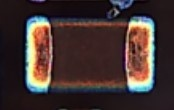COMP: (18, 14, 162, 100)
STAN: (101, 1, 134, 19), (105, 7, 120, 19), (109, 1, 137, 7)
